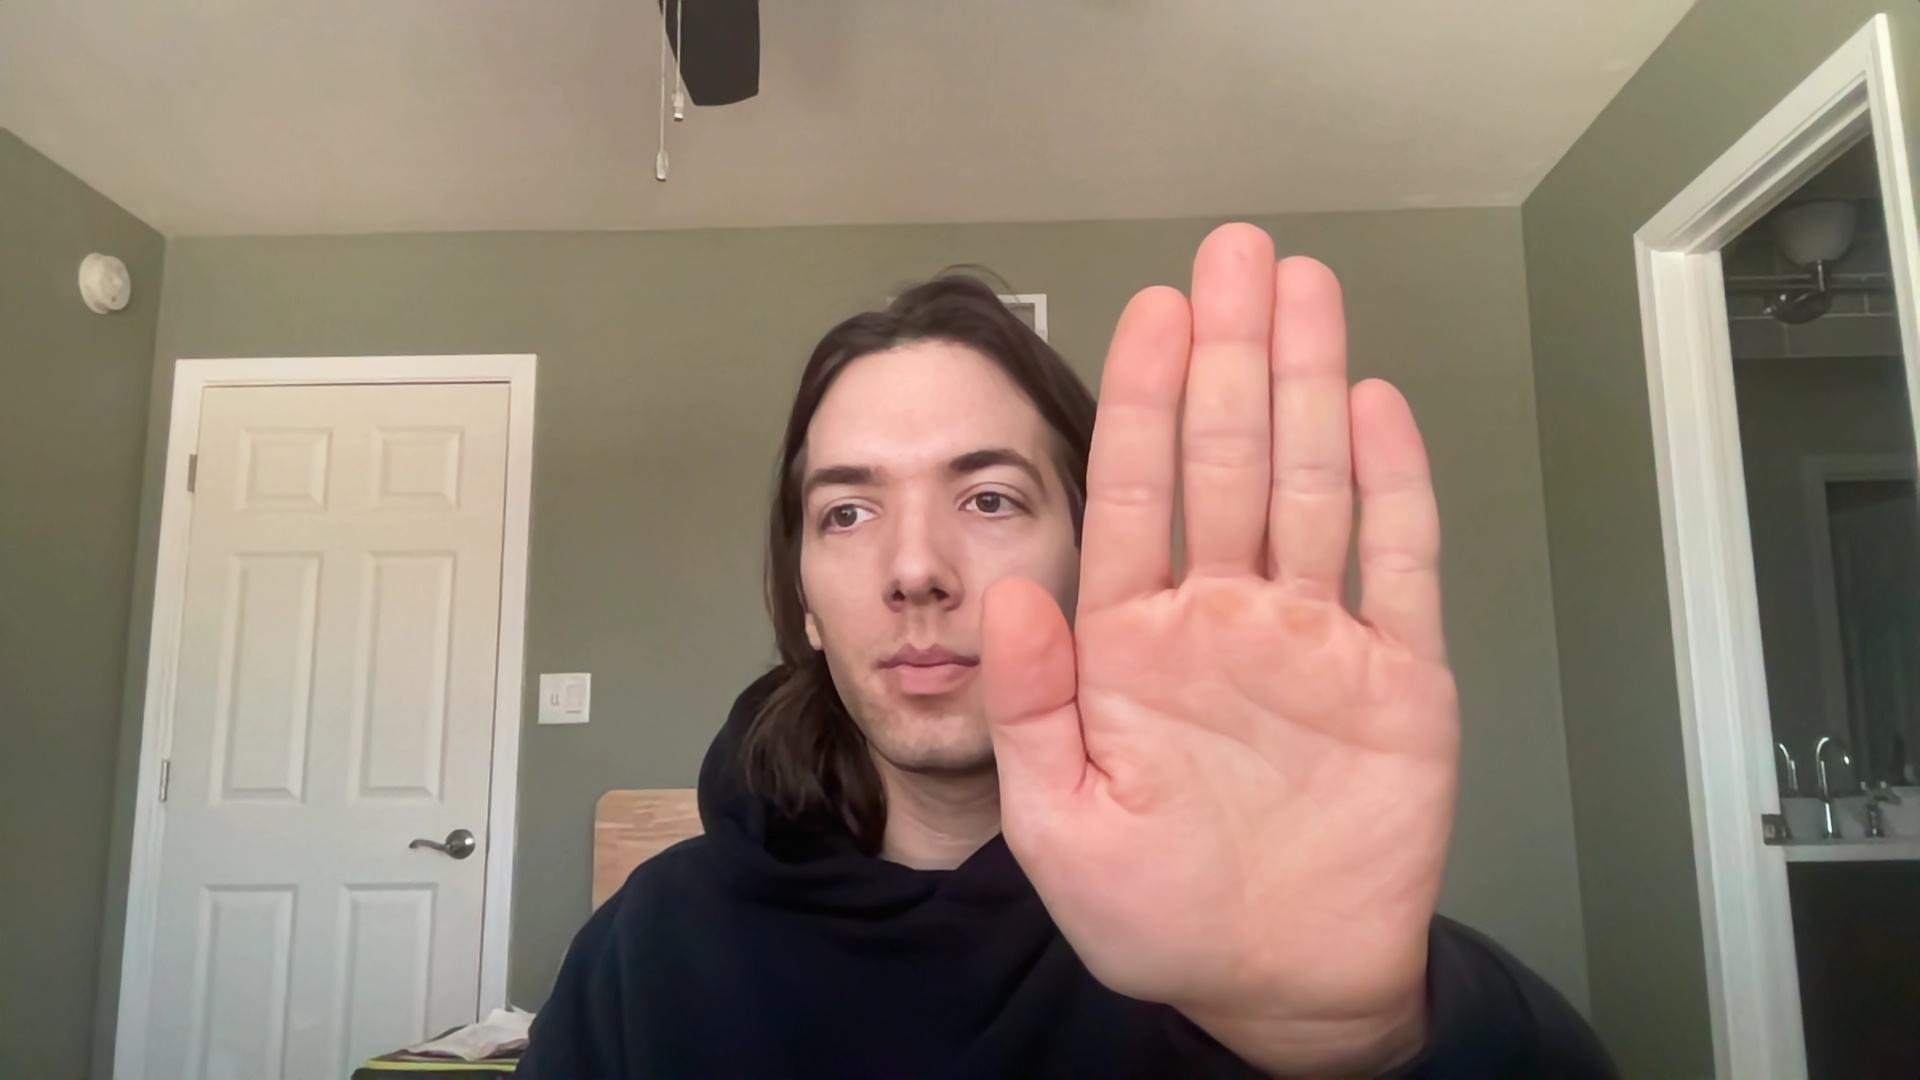Hello: (964, 212, 1485, 1050)
